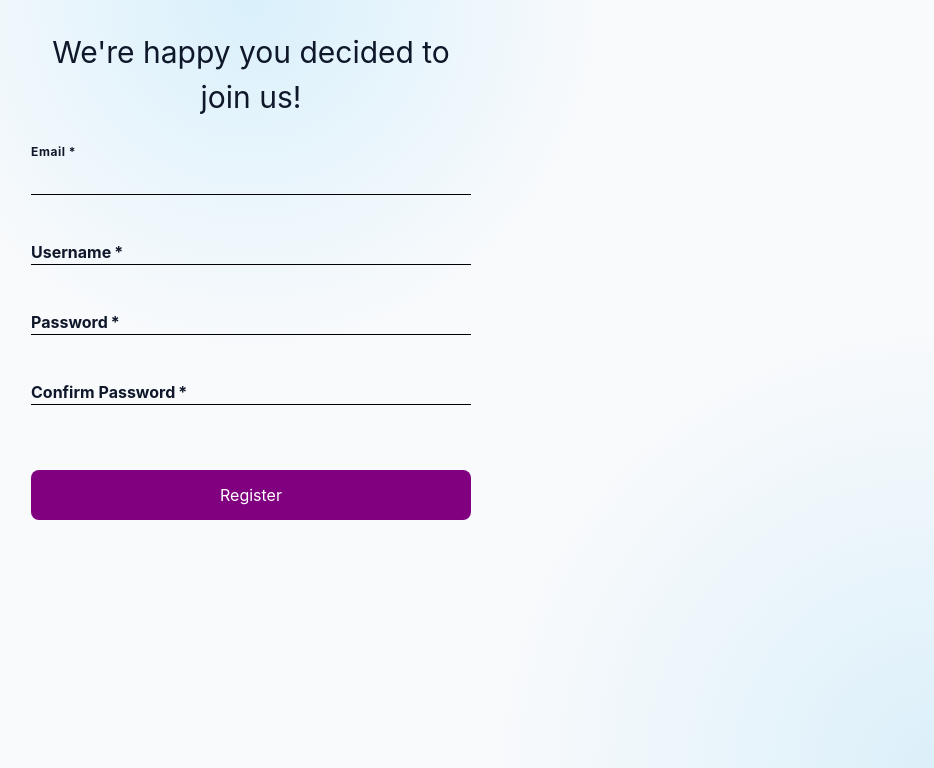
Test: RegisterUserForm › shows a server error that names no field in the form's general message area
This screenshot has width=934, height=768.
Type "player@example.com" into the field labelled "Email *" at [251, 178], box [31,160,471,195]
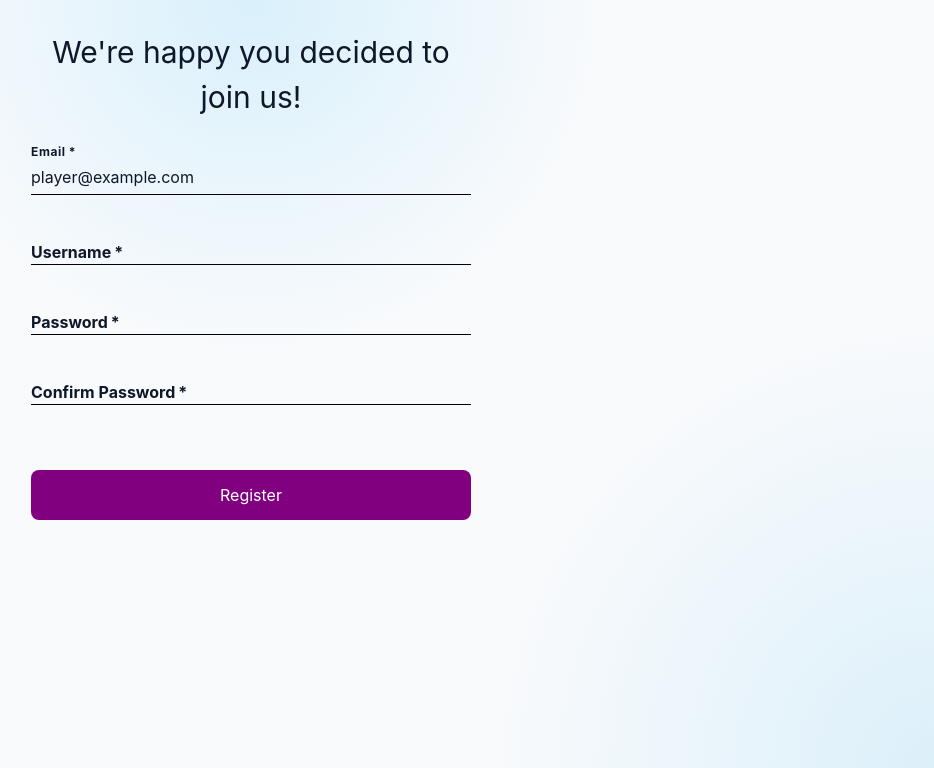
Type "player_one" into the field labelled "Username *" at [251, 248], box [31,230,471,265]
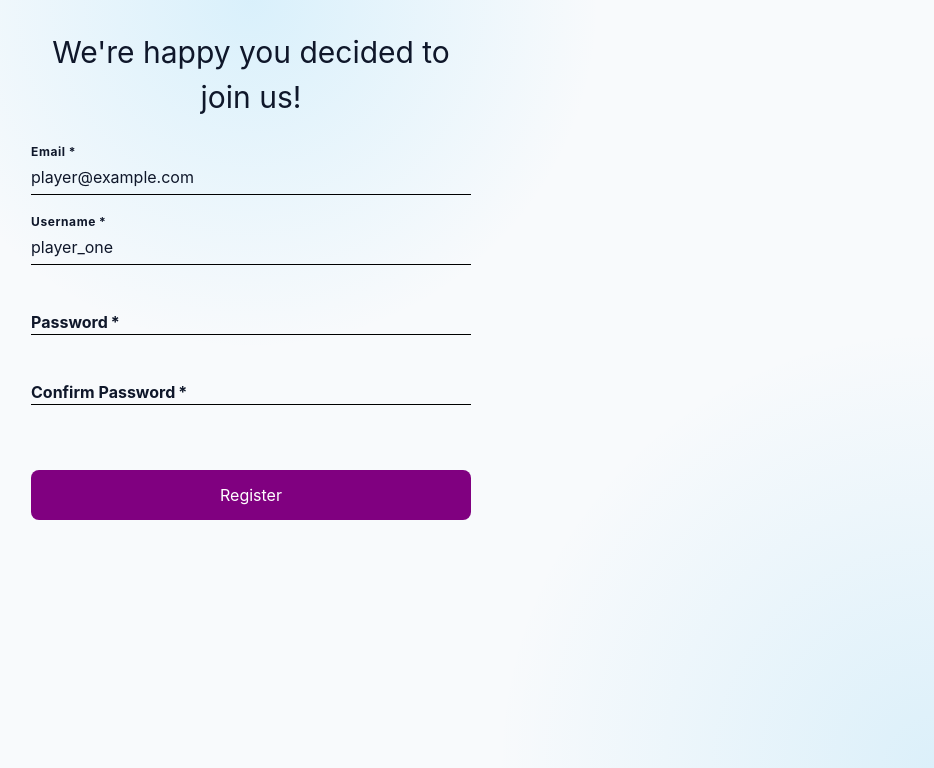
Type "Passw0rd!" into the password field labelled "Password *" at [251, 318], box [31,300,471,335]
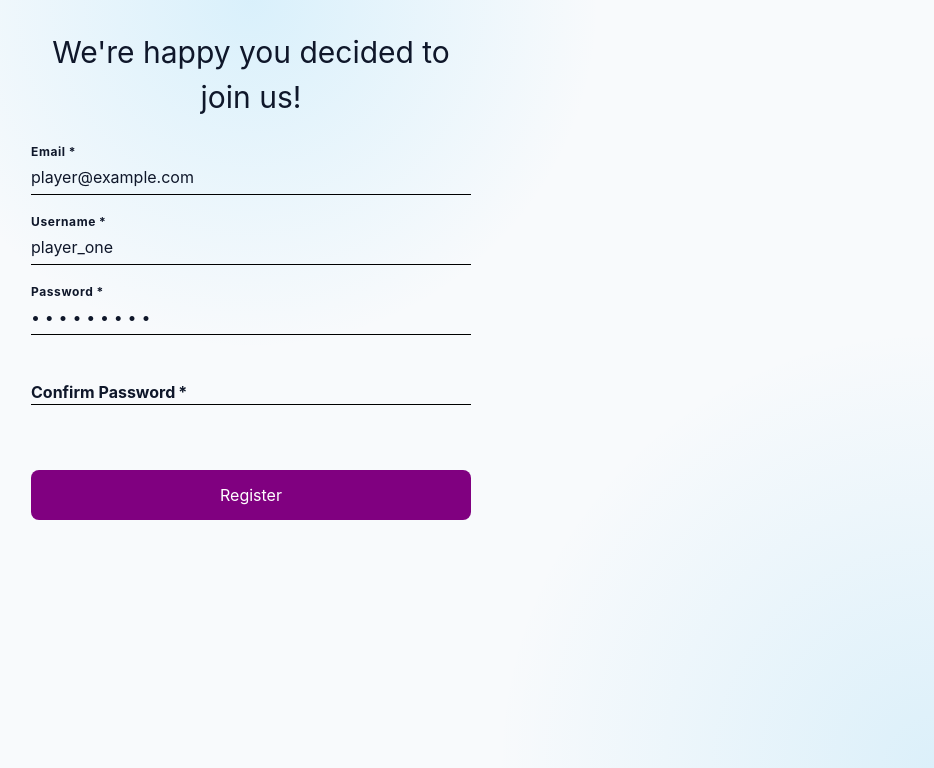
Type "Passw0rd!" into the password field labelled "Confirm Password *" at [251, 388], box [31,370,471,405]
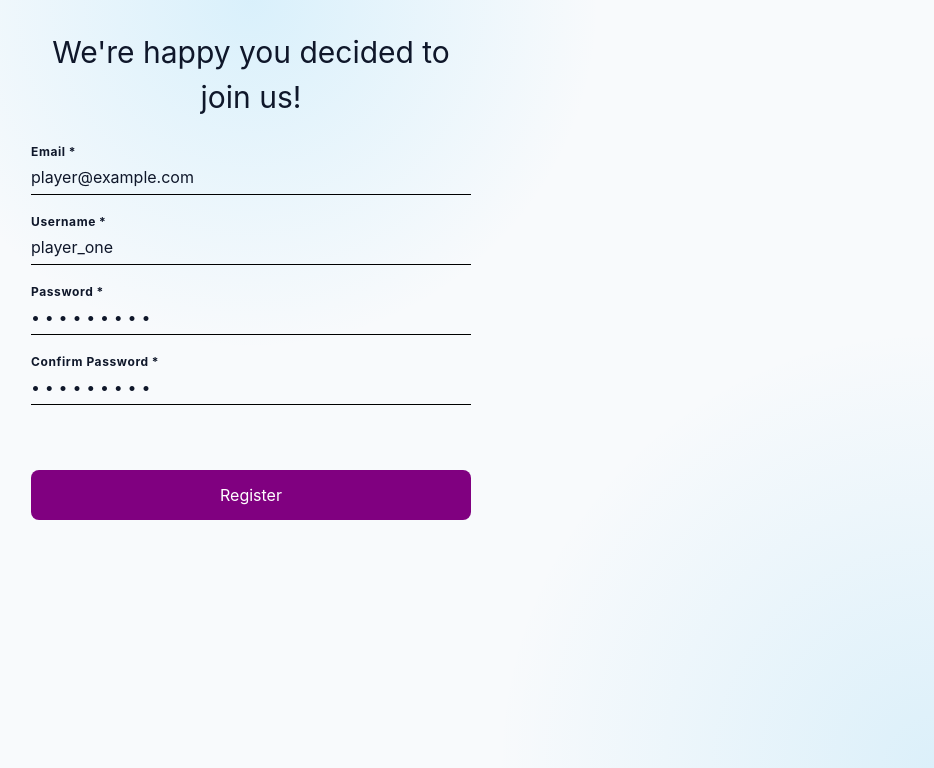
Click the button "Register" at [251, 495], box [31,470,471,520]
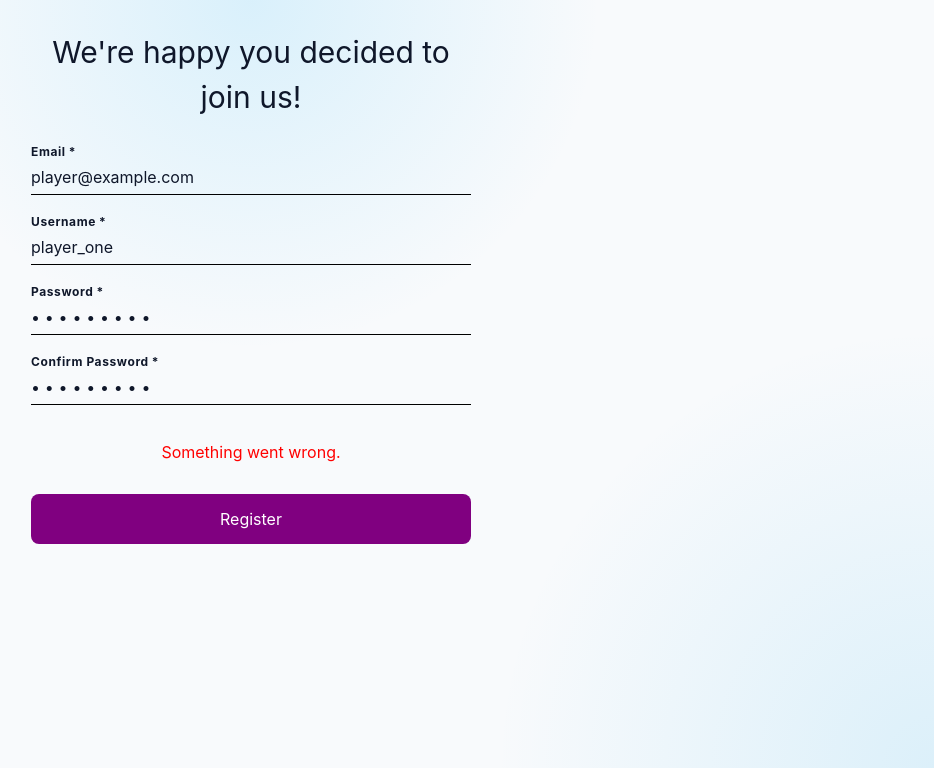
Now the text "Something went wrong." is shown, box [161,442,341,462]
